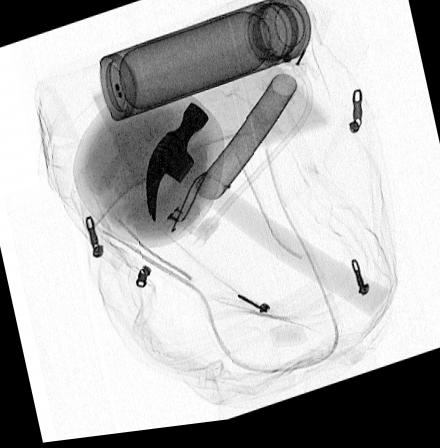Hammer: (145, 106, 388, 325)
